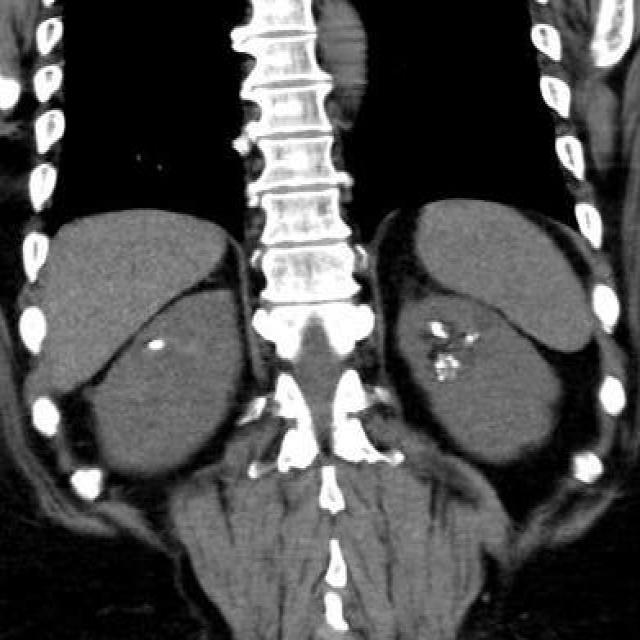Tas_Var: (430, 318, 452, 342), (146, 332, 167, 356), (434, 360, 448, 370), (466, 334, 477, 344), (444, 354, 456, 362), (451, 360, 459, 370), (436, 375, 446, 381), (437, 369, 442, 375)
